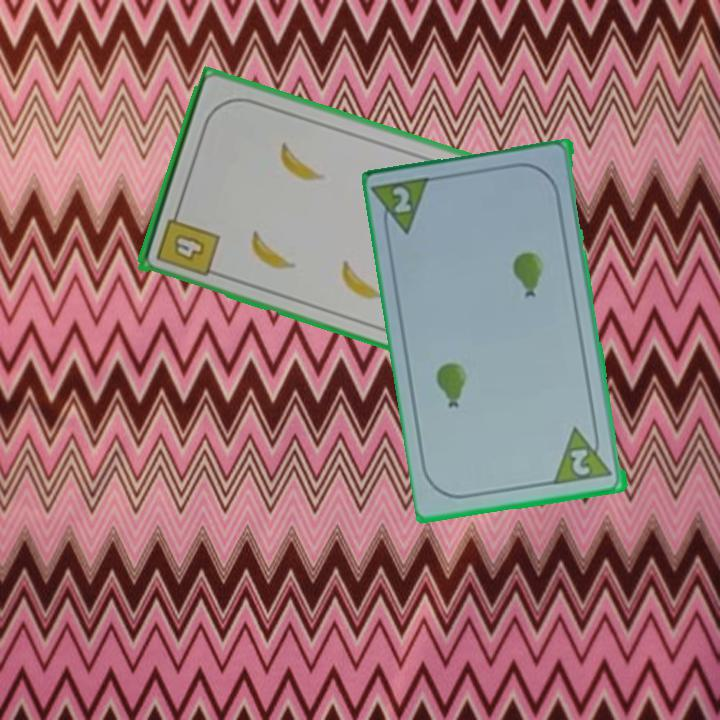2p: (552, 422, 616, 488), (390, 183, 415, 217)
4b: (153, 204, 223, 279)
